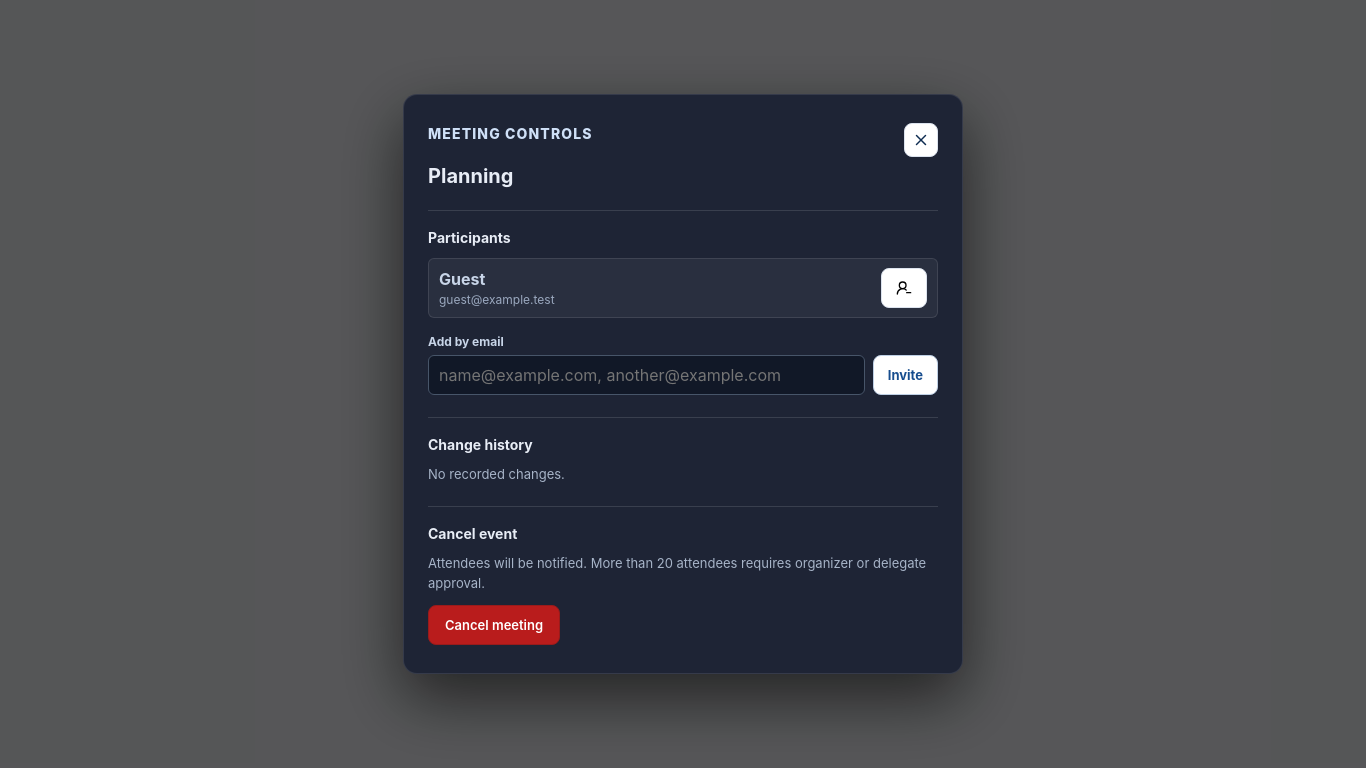
it: MeetingManageDialog audit history › keeps the dialog open and refreshes participant and audit state after removal
expect the text "Guest" is shown: met, box [439,269,485,289]
Step 1. Click the button named "Remove Guest" → {"x": 904, "y": 288}, box [881,268,927,308]
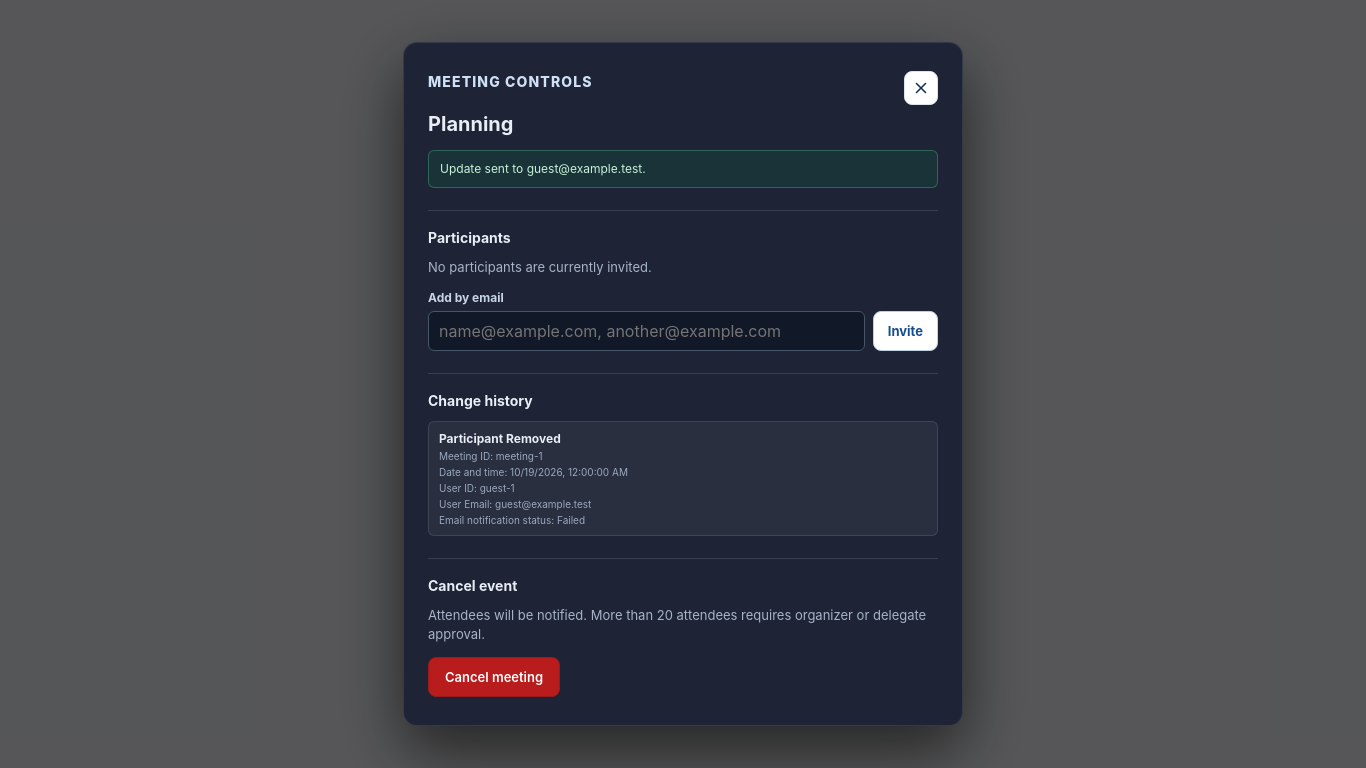
expect the text "No participants are currently invited." is shown: met, box [428,259,652,275]
expect the text "Participant Removed" is shown: met, box [439,431,561,446]
expect the text "User ID: guest-1" is shown: met, box [439,482,515,494]
